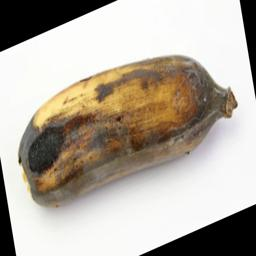Banana Rotten: (6, 19, 256, 229)
